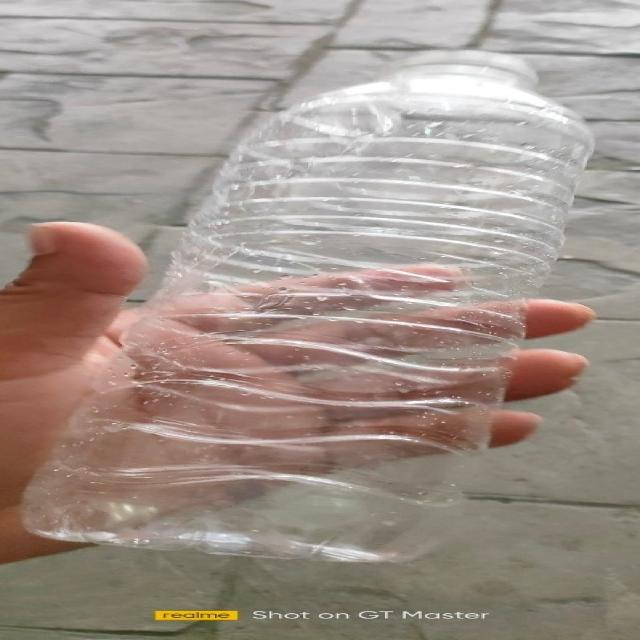plastic_bottle: (18, 51, 596, 562)
